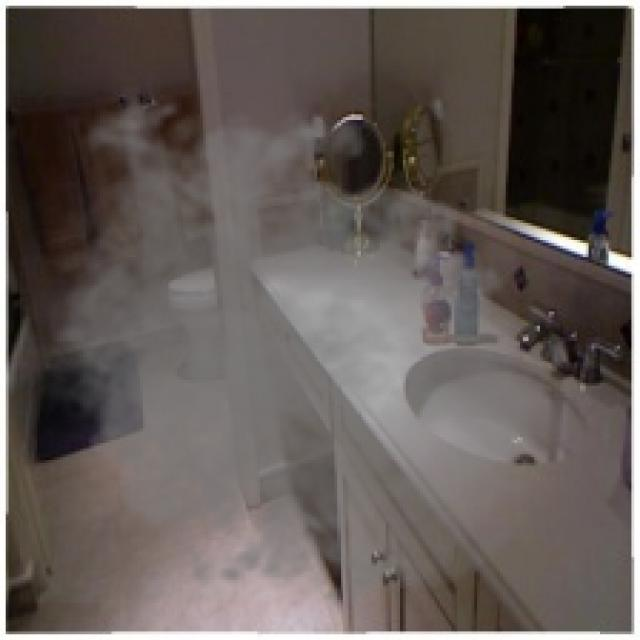smoke: (20, 83, 583, 614)
